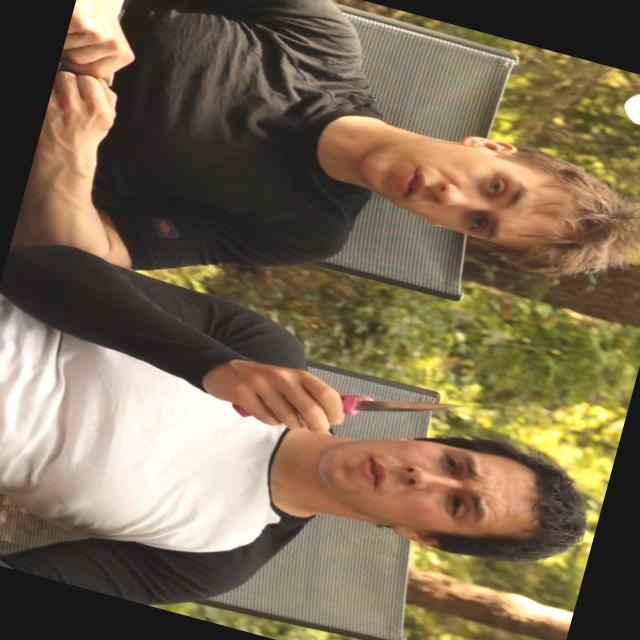knife: (266, 350, 479, 476)
